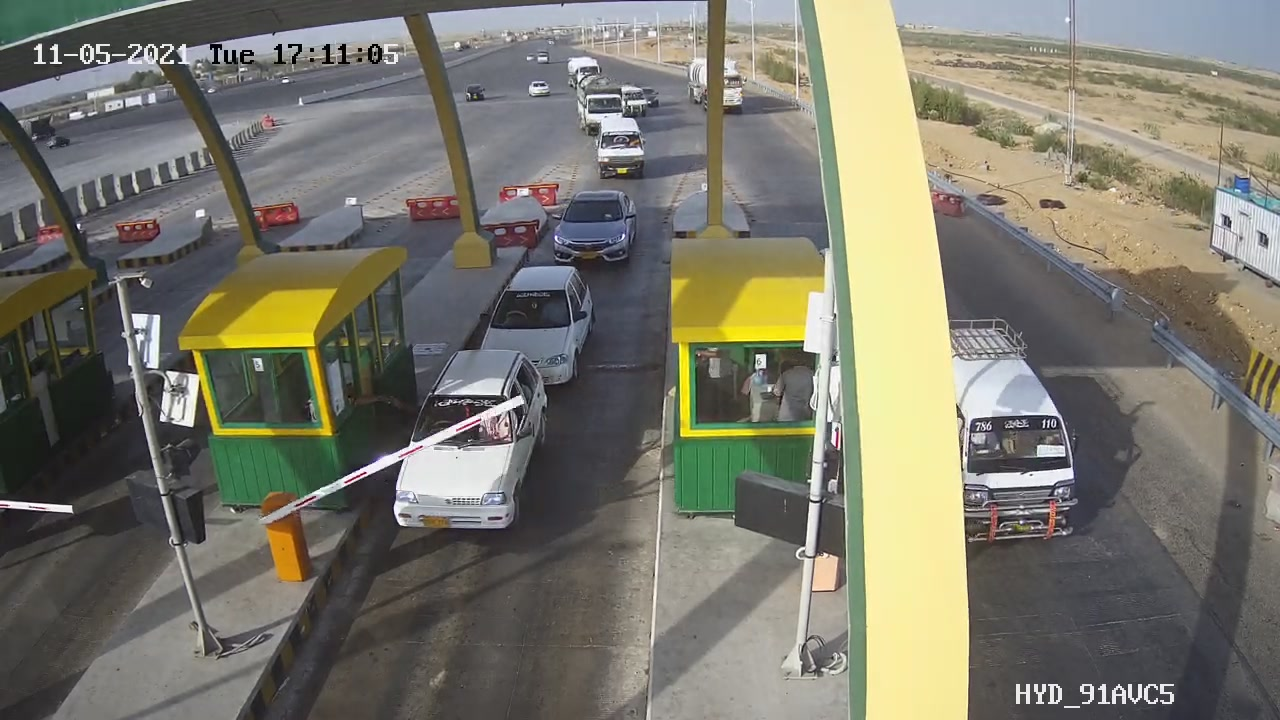F1: (373, 335, 563, 551), (538, 178, 656, 277)
